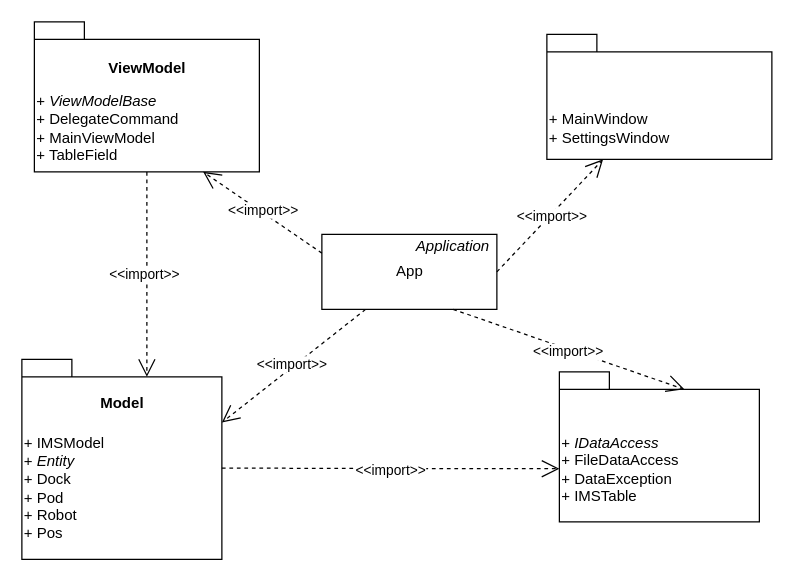
The diagram is 794 pixels wide and 581 high, and some of its shapes have lost their labels. Here are the shapes that lost their labels. From the top down, the box of each, then its label:
(546, 33, 772, 159): View
(558, 371, 759, 522): Persistence
